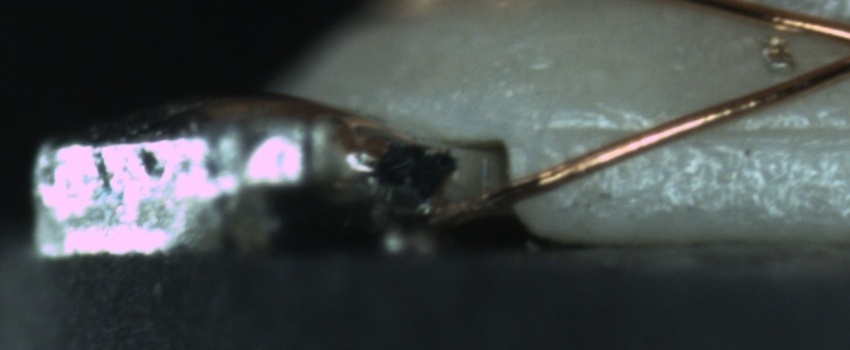DL: (545, 101, 850, 161)
